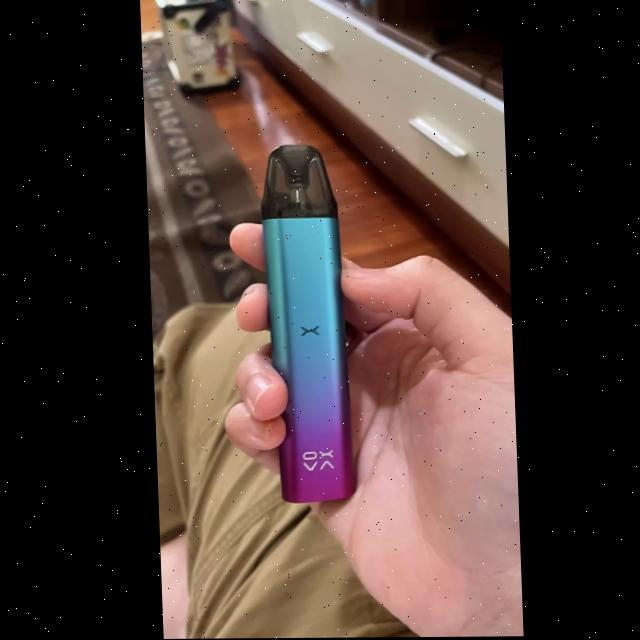vape: (260, 143, 351, 504)
